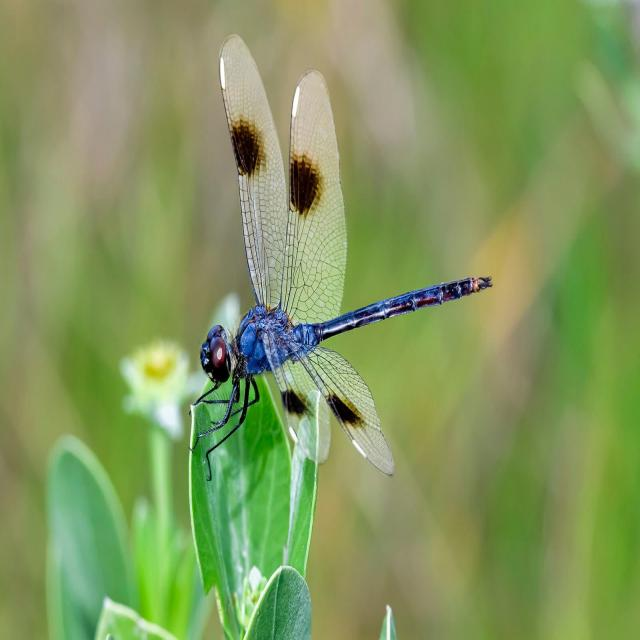dragonfly: (190, 35, 491, 478)
